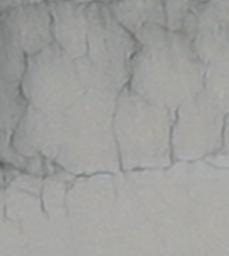fissura: (11, 109, 229, 238), (5, 11, 84, 137), (102, 5, 178, 121)
